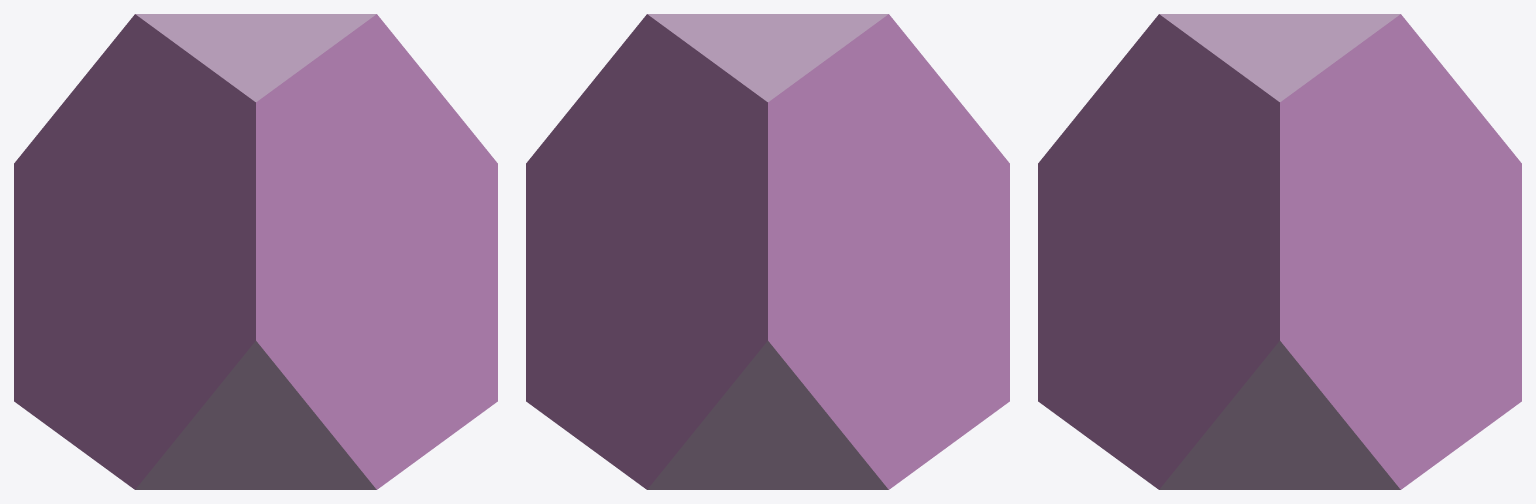
The model's file is 8.TetraedroTruncado.gltf.
3 renders of one model, left to right at view 1: azimuth 30°, elevation 25°; view 2: azimuth 150°, elevation 25°; view 3: azimuth 270°, elevation 25°, orthographic.
Parts seen in each view (by area): view 1: Solid.001; view 2: Solid.001; view 3: Solid.001.
Part boxes in pixels (x1=…): Solid.001: x1=14, y1=14, x2=497, y2=489; Solid.001: x1=526, y1=14, x2=1009, y2=489; Solid.001: x1=1038, y1=14, x2=1521, y2=489.
Size of the model in its own units: 1.1 by 0.8889 by 1.09.
